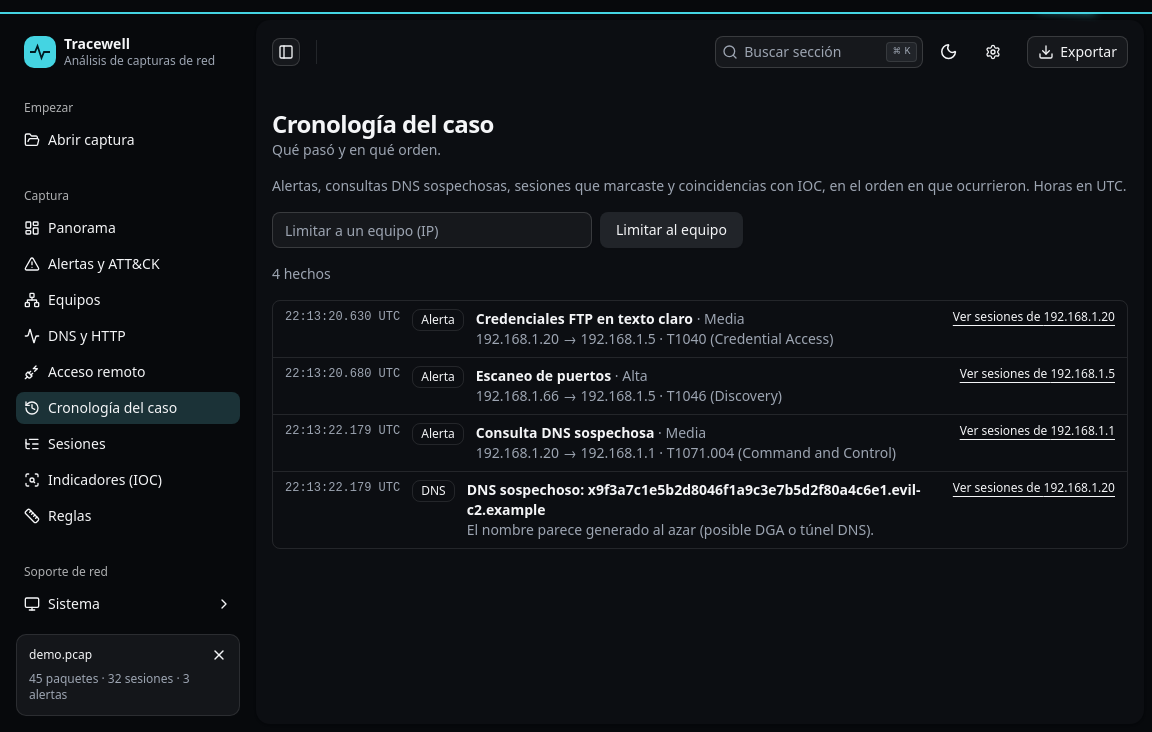
Test: Cronología del caso › lista los hechos y permite limitar a un equipo
Expected: the text "Credenciales FTP en texto claro" is shown, [476, 309, 693, 328]
Type "192.168.1.66" into the search field labelled "equipo (IP)" at [432, 230], box [272, 212, 592, 248]
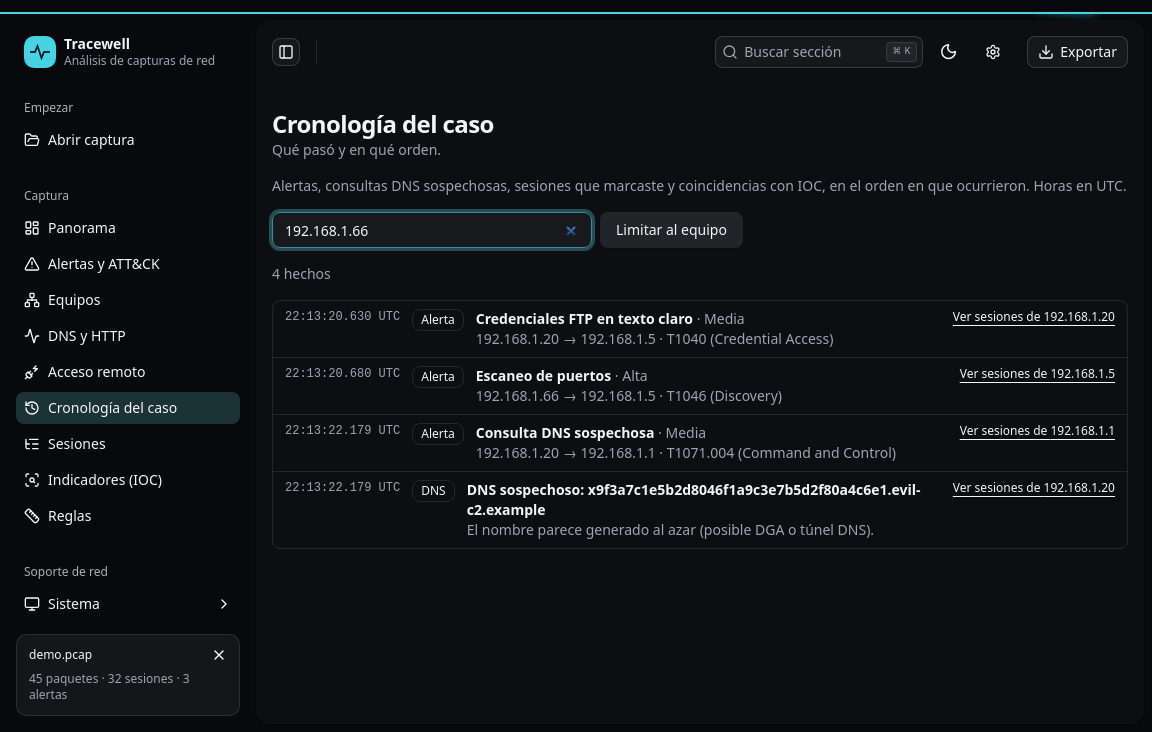
Click the button "Limitar al equipo" at [671, 230], box [600, 212, 743, 248]
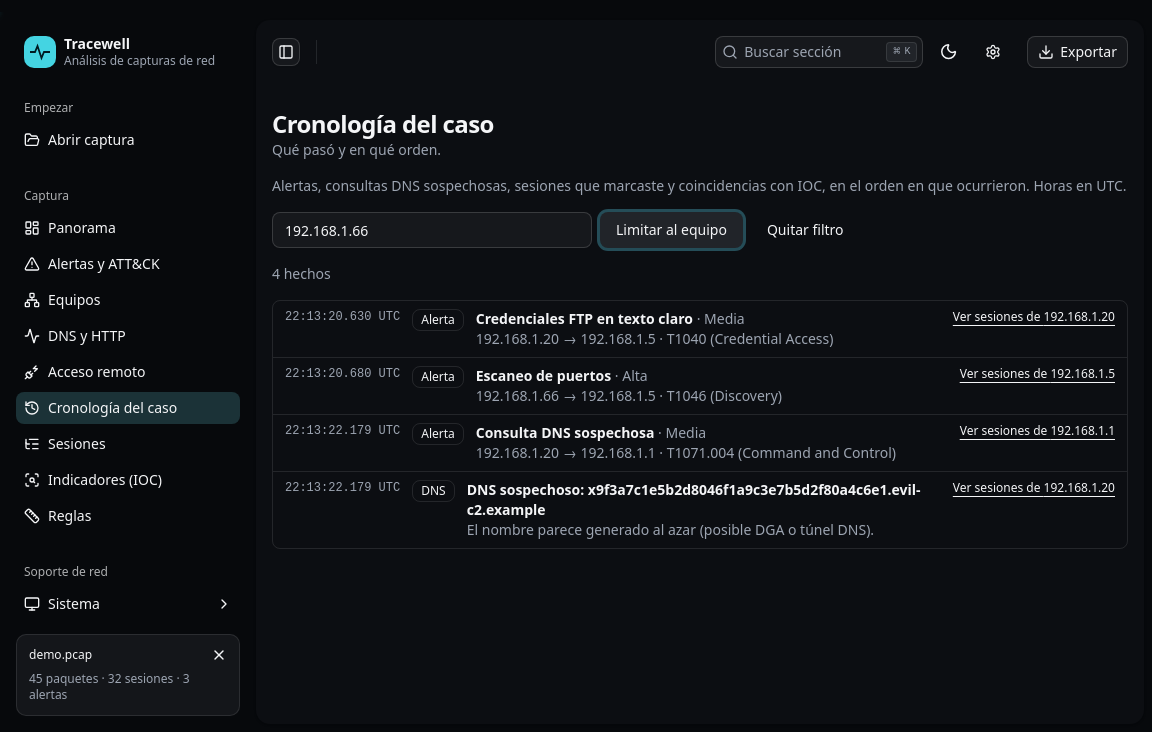
Result: the button "Quitar filtro" is shown at [751, 212, 860, 248]
